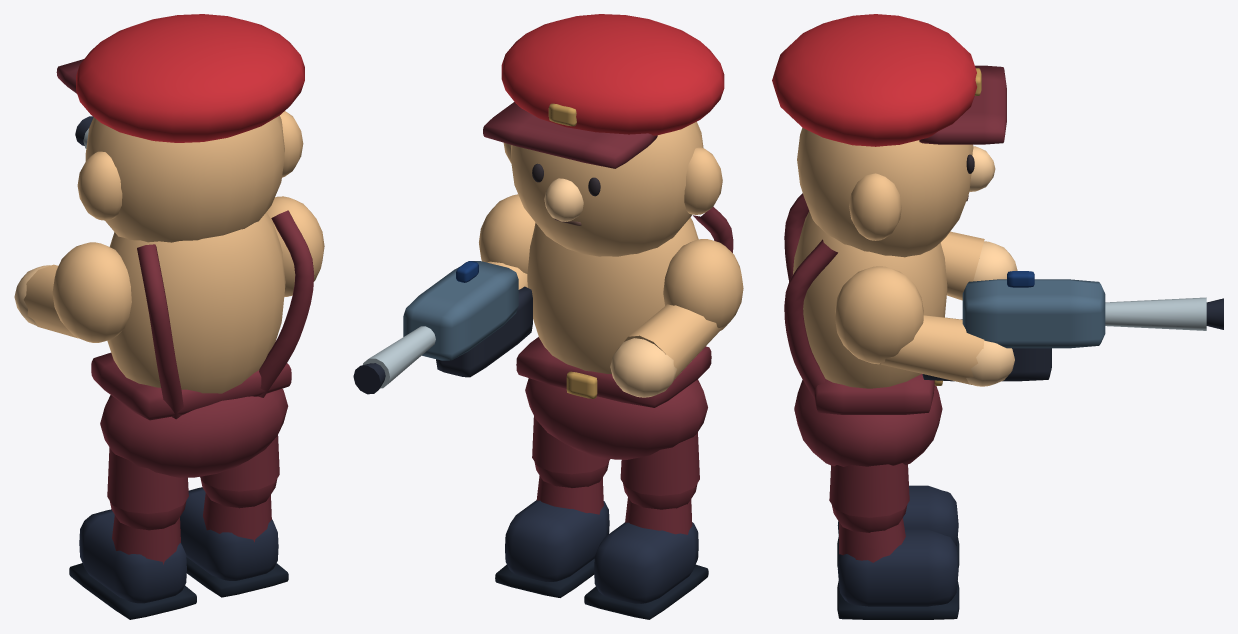
The model's file is red-raider.glb.
3 renders of one model, left to right at view 1: azimuth 30°, elevation 25°; view 2: azimuth 150°, elevation 25°; view 3: azimuth 270°, elevation 25°, orthographic. The views are drawn at different scales.
Visible parts, largest first — view 1: torso0, helmet, head0, body, bootL, bootR, legL, legR, shinR, shinL; view 2: torso0, helmet, head0, gun0, body, bootL, bootR, legL, legR, shinR, shinL; view 3: torso0, helmet, head0, gun0, bootR, body, legR, bootL, shinR.
Part boxes in pixels (bbox=[...]): torso0: bbox=[14, 196, 324, 420]; helmet: bbox=[56, 14, 304, 142]; head0: bbox=[77, 111, 303, 242]; body: bbox=[100, 388, 288, 477]; bootL: bbox=[69, 509, 196, 619]; bootR: bbox=[180, 487, 288, 597]; legL: bbox=[107, 447, 188, 530]; legR: bbox=[200, 435, 279, 508]; shinR: bbox=[203, 493, 271, 542]; shinL: bbox=[112, 515, 180, 564]; torso0: bbox=[479, 194, 743, 407]; helmet: bbox=[483, 14, 724, 168]; head0: bbox=[503, 121, 722, 256]; gun0: bbox=[353, 261, 532, 394]; body: bbox=[525, 378, 707, 459]; bootL: bbox=[584, 522, 708, 619]; bootR: bbox=[495, 500, 609, 597]; legL: bbox=[620, 432, 699, 509]; legR: bbox=[532, 416, 610, 487]; shinR: bbox=[536, 476, 603, 514]; shinL: bbox=[625, 497, 692, 534]; torso0: bbox=[784, 193, 1017, 414]; helmet: bbox=[772, 14, 1006, 146]; head0: bbox=[797, 128, 995, 257]; gun0: bbox=[922, 271, 1223, 381]; bootR: bbox=[837, 529, 959, 619]; body: bbox=[794, 379, 942, 466]; legR: bbox=[829, 463, 909, 532]; bootL: bbox=[837, 485, 959, 567]; shinR: bbox=[839, 518, 905, 562].
Size of the model in its own units: 0.718 by 1.47 by 1.1.
